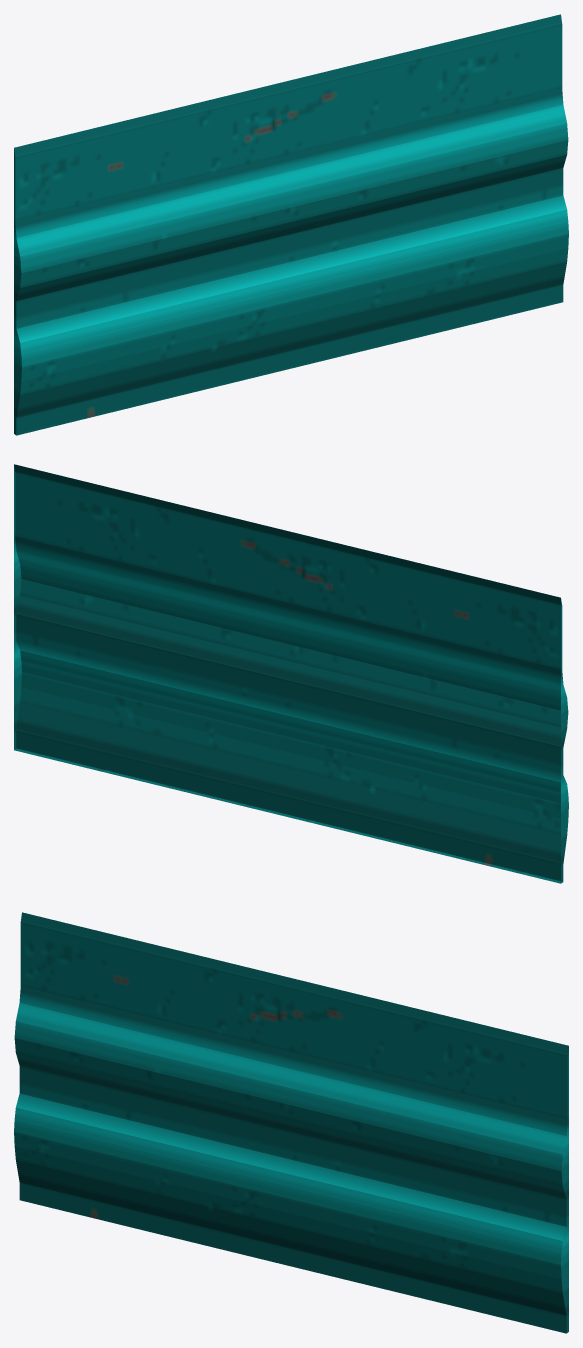
Rendered from med2_8_half_top.fbx.
The picture shows the model from 3 angles, top to bottom: view 1: azimuth 30°, elevation 25°; view 2: azimuth 150°, elevation 25°; view 3: azimuth 330°, elevation 25°; orthographic projection.
Visible parts, largest first — view 1: med2_8_half_top_mesh; view 2: med2_8_half_top_mesh; view 3: med2_8_half_top_mesh.
Boxes of the visible parts, <box> form: med2_8_half_top_mesh: <box>14,14,568,435</box>; med2_8_half_top_mesh: <box>14,464,568,883</box>; med2_8_half_top_mesh: <box>14,912,568,1333</box>.
Bounding box in the file's own units: 256 × 128 × 6.5.
